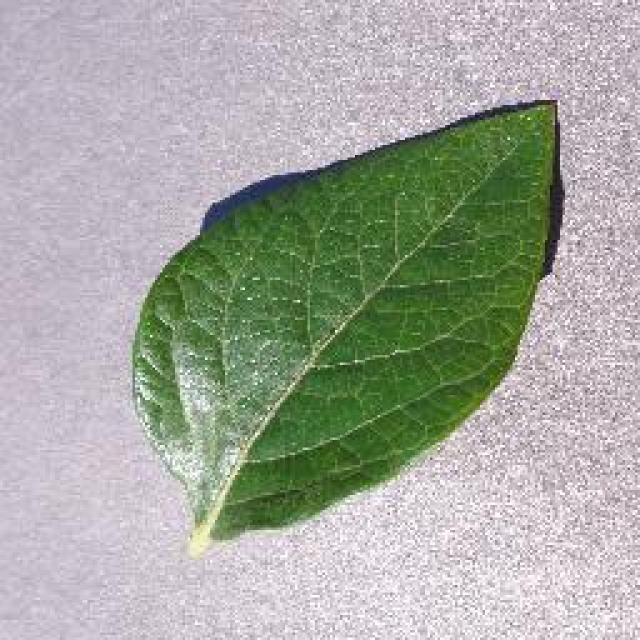Blu_healthy: (175, 177, 510, 488)
